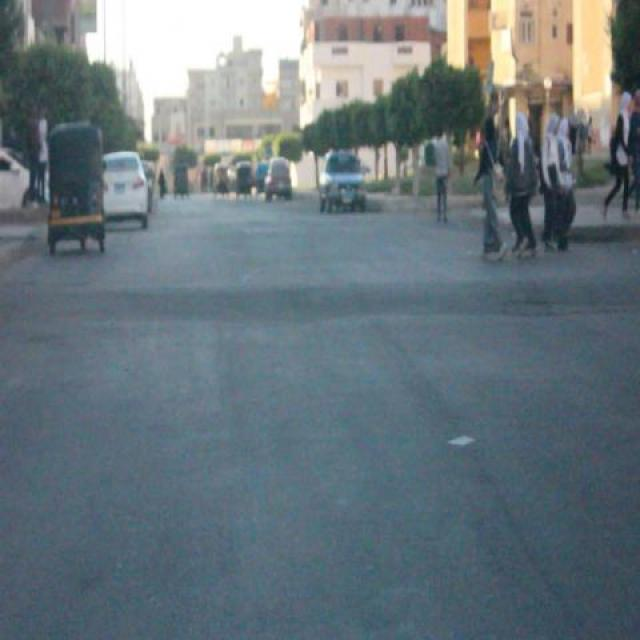Unmarked Bump: (1, 268, 636, 327)
